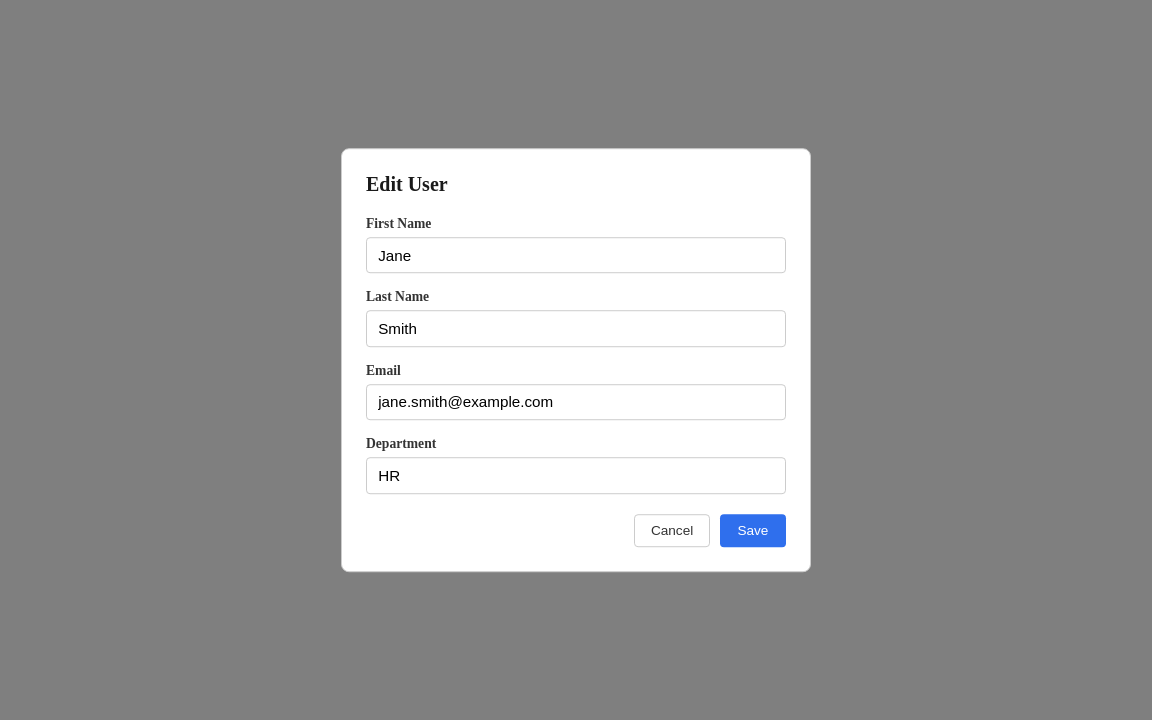
Test: UserFormModal - validation › shows an error for an invalid email format
The width and height of the screenshot is (1152, 720).
Replace the text in the field labelled "Email" with "not-an-email" at (576, 402), box [366,384,786,420]
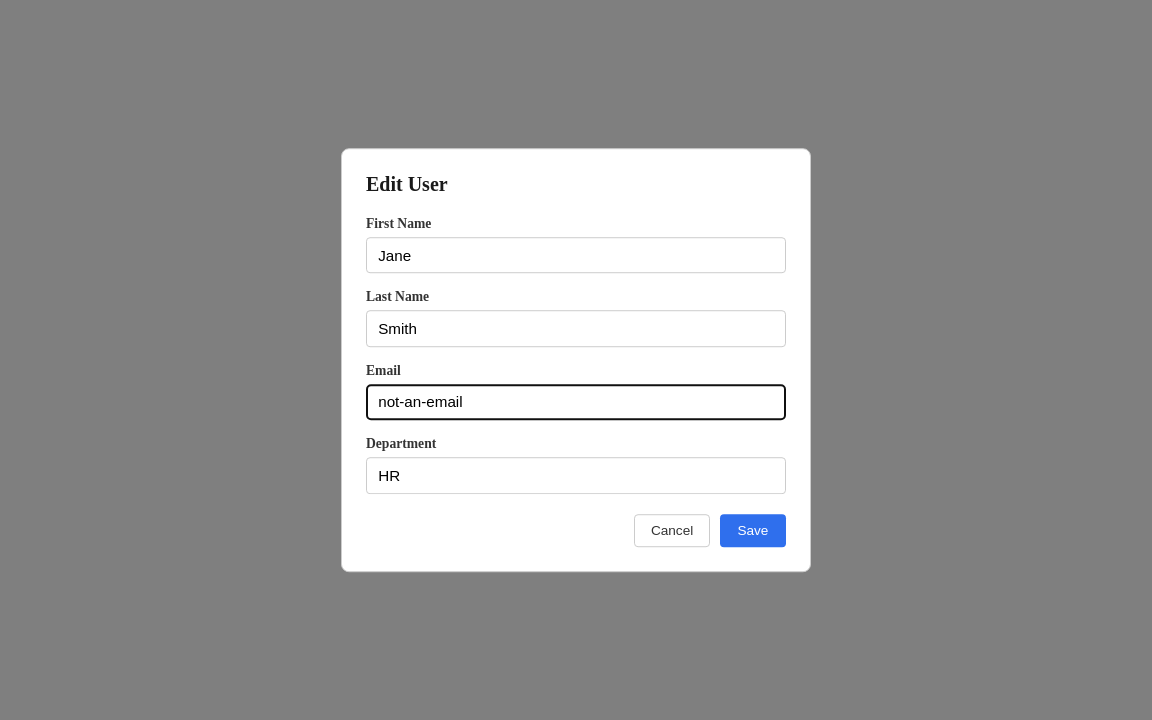
Click the button "Save" at (753, 530), box [720,514,786,547]
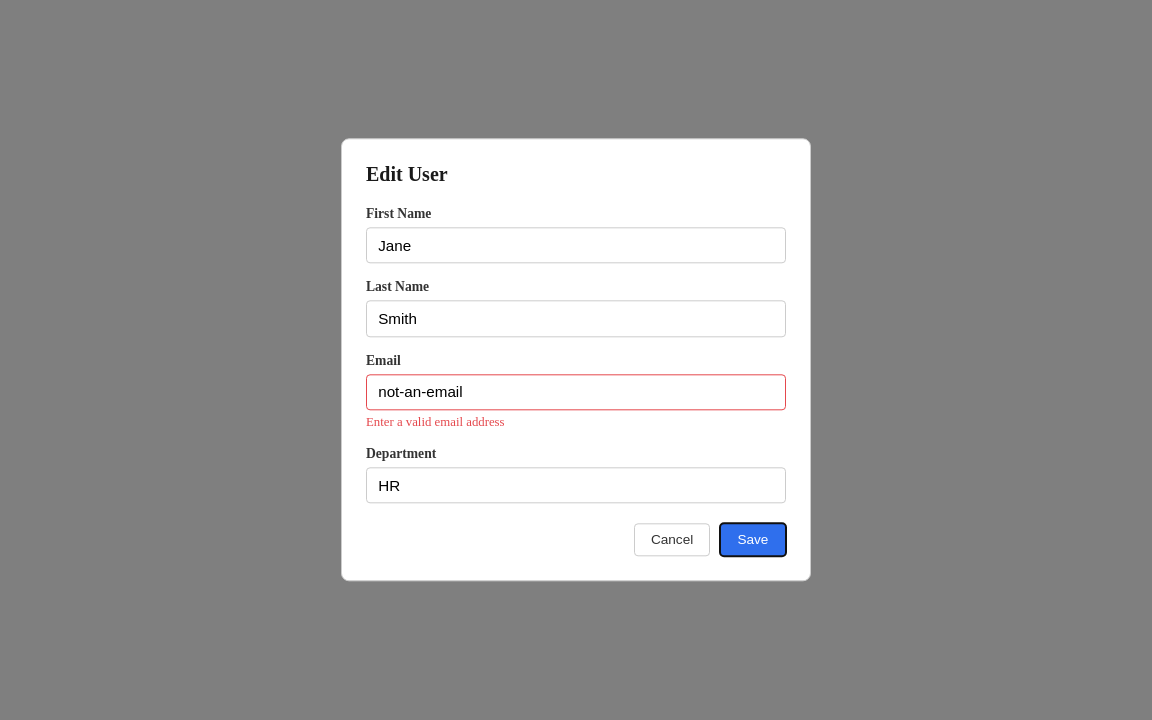
Result: the text "Enter a valid email address" is shown at [366,415,505,429]
